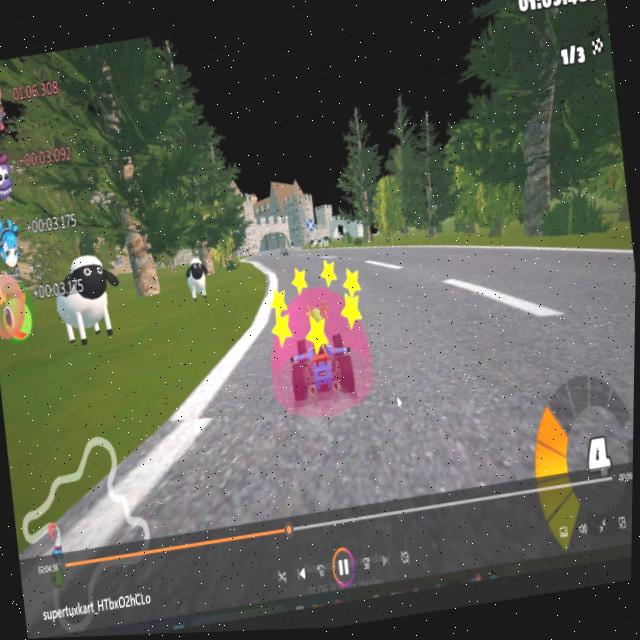enemy_kart: (280, 246, 292, 260)
off_track: (105, 238, 253, 349)
player_kart: (265, 279, 379, 422)
